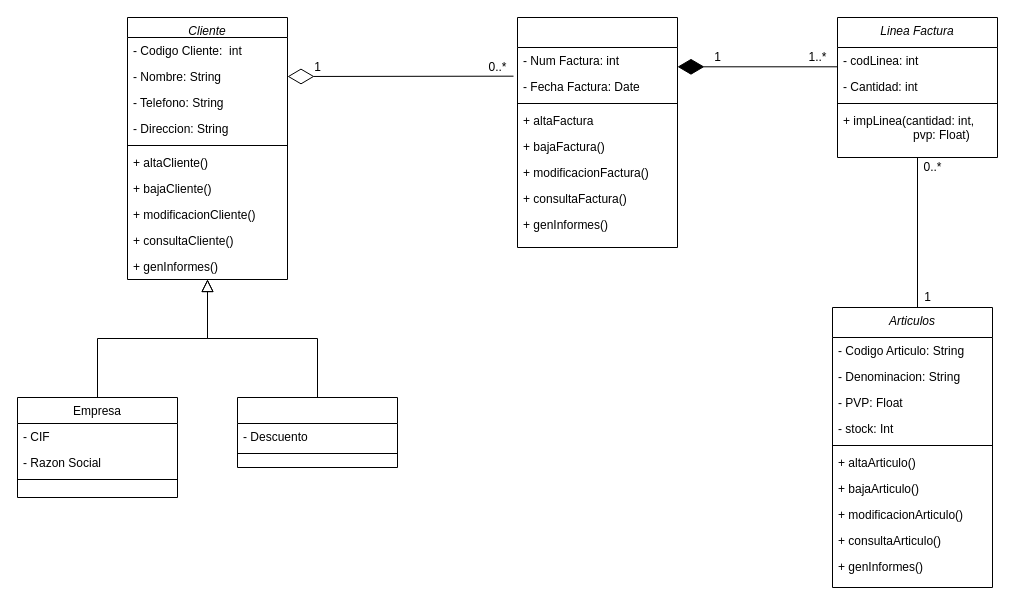
Image size: 1015x605. Some labels were removed from this diagram. The box of each missing label's shape, as (x1, y1, x2, y2) in pixels:
Facturas: (516, 16, 678, 248)
Particulares: (236, 396, 398, 468)
